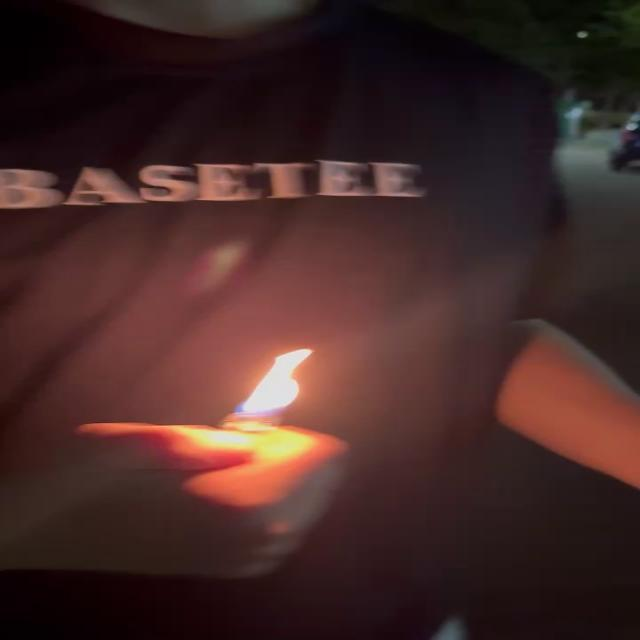Fire: (231, 348, 322, 418)
